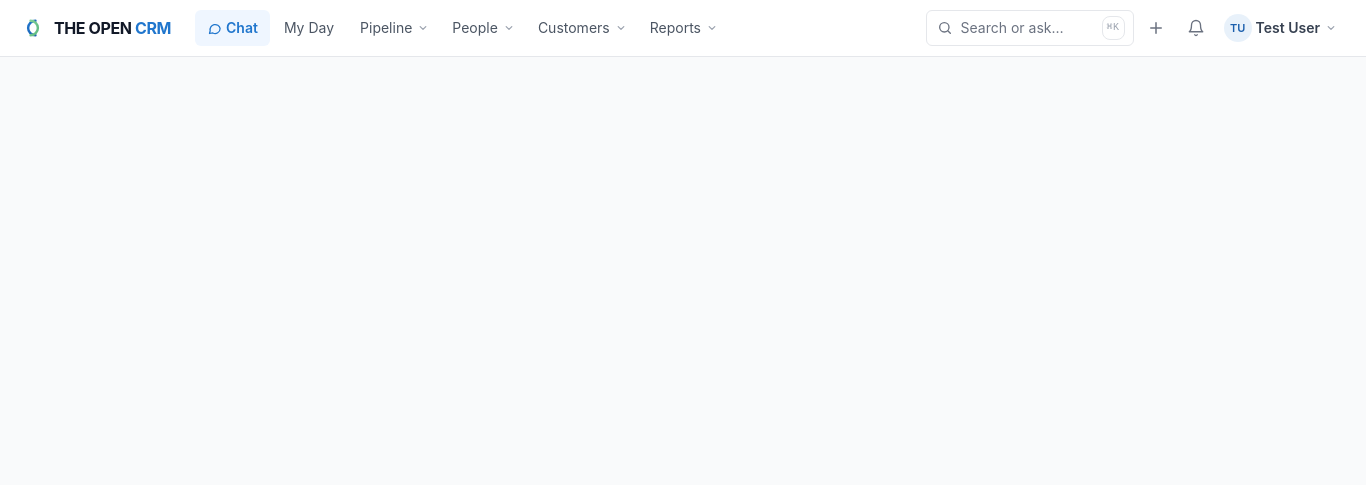
Test case: Nav — grouped top bar › puts Admin in the account menu for admins, pointing at the /admin hub
Click the button with aria-label "Account menu": [1282, 28] box [1218,10,1346,46]
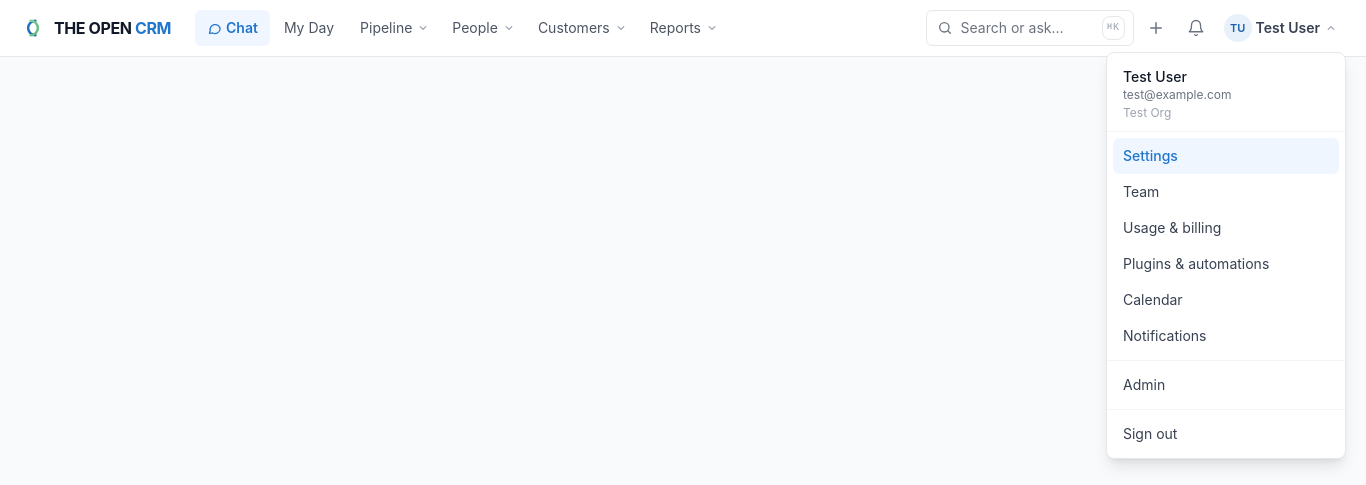
Expected: the menu item "Sign out" is shown, [1113,416,1339,452]
